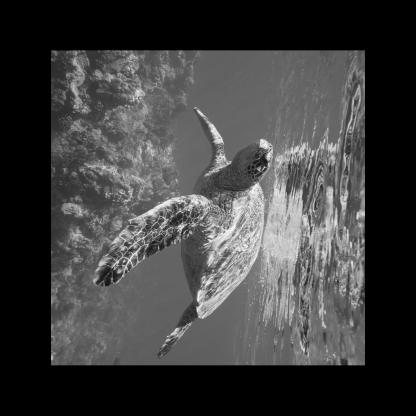turtle: (89, 113, 271, 359)
